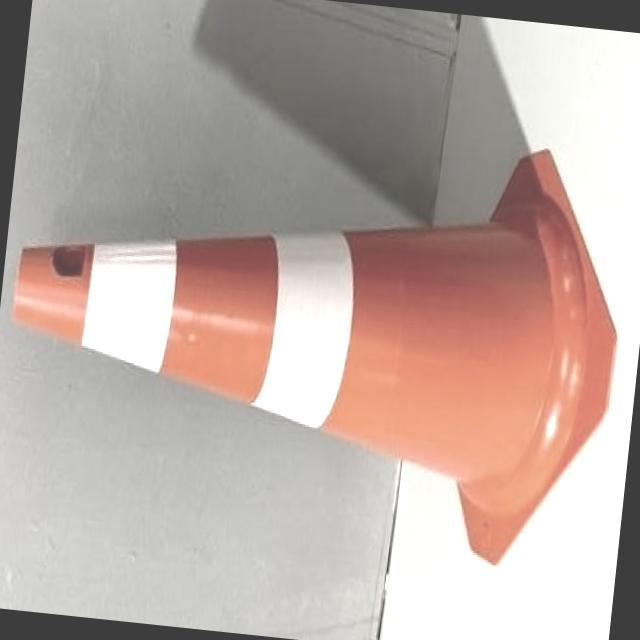cone: (0, 109, 623, 546)
